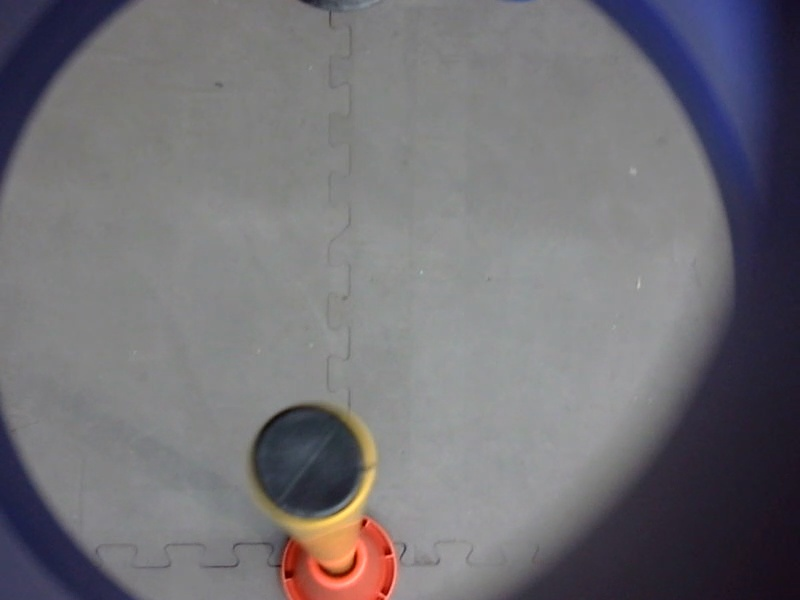tip: (244, 396, 380, 526)
